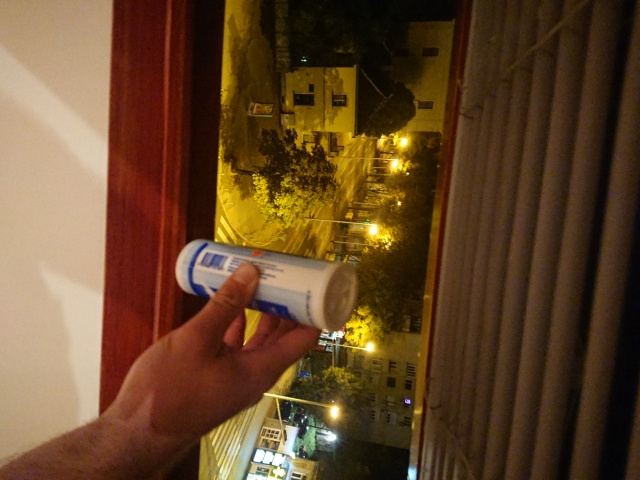Solana Pag Fine Sea Salt 250g: (172, 235, 361, 334)
